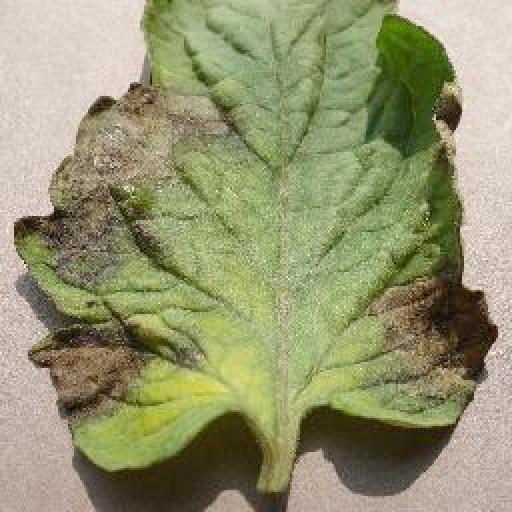disease_tomato: (12, 0, 502, 476)
